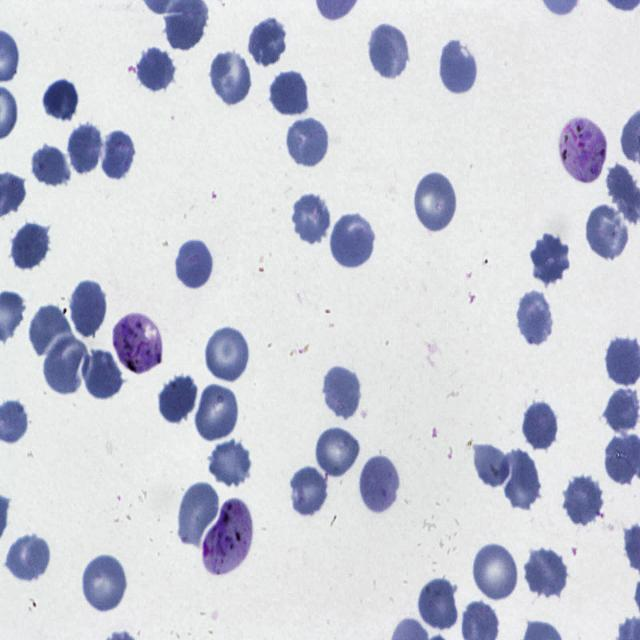red blood cell: (80, 552, 130, 614), (42, 332, 88, 398), (472, 541, 520, 603), (329, 209, 377, 270), (204, 323, 252, 384), (194, 382, 240, 444), (584, 201, 630, 262), (358, 453, 402, 516), (178, 482, 220, 547), (501, 448, 542, 514), (3, 531, 53, 585), (366, 22, 411, 81), (209, 49, 253, 108), (314, 424, 362, 478), (523, 545, 570, 600), (29, 304, 73, 362), (416, 173, 457, 234), (321, 364, 362, 422), (287, 463, 330, 518), (289, 191, 332, 246), (70, 278, 108, 340), (562, 472, 604, 528), (285, 115, 326, 172), (527, 230, 570, 284), (438, 38, 478, 96), (416, 575, 458, 630), (515, 289, 554, 348), (66, 120, 105, 178), (248, 15, 289, 69), (174, 238, 214, 292), (158, 371, 198, 425), (9, 220, 51, 271), (208, 440, 252, 488), (522, 398, 560, 452), (82, 350, 122, 401), (269, 69, 310, 117), (136, 46, 176, 94), (100, 128, 136, 181), (31, 142, 72, 188), (601, 389, 640, 431), (473, 444, 511, 487), (44, 76, 77, 122)
trophozoite: (202, 497, 253, 578), (558, 116, 606, 184), (113, 311, 163, 375)
